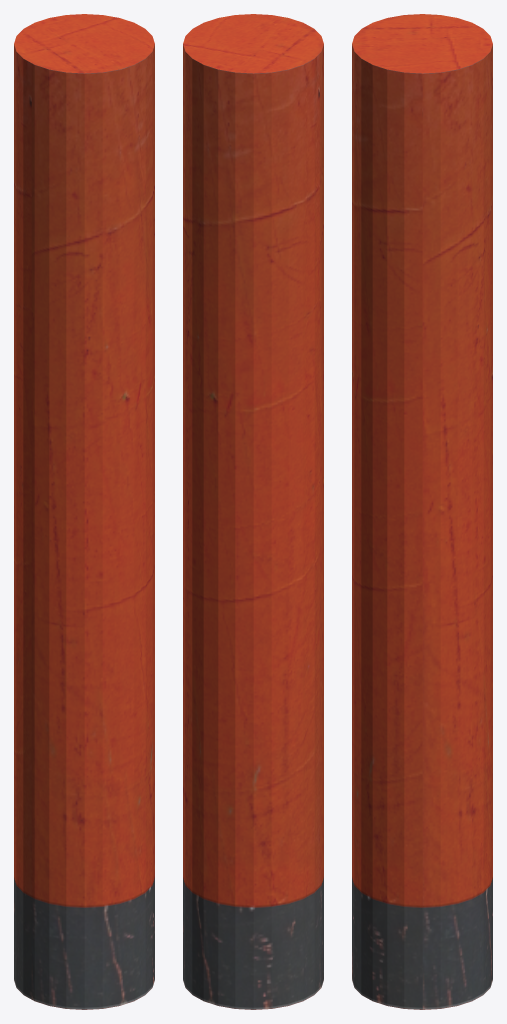
Rendered from orange_pole.dae.
The picture shows the model from 3 angles, left to right: view 1: azimuth 30°, elevation 25°; view 2: azimuth 150°, elevation 25°; view 3: azimuth 270°, elevation 25°; orthographic projection.
Visible parts, largest first — view 1: instance_0; view 2: instance_0; view 3: instance_0.
Part boxes in pixels (left/top/right/bottom): instance_0: left=14, top=14, right=154, bottom=1009; instance_0: left=183, top=14, right=323, bottom=1009; instance_0: left=352, top=14, right=492, bottom=1009.
Bounding box in the file's own units: 11.81 × 11.81 × 86.61.
1 material, 1 textured.
